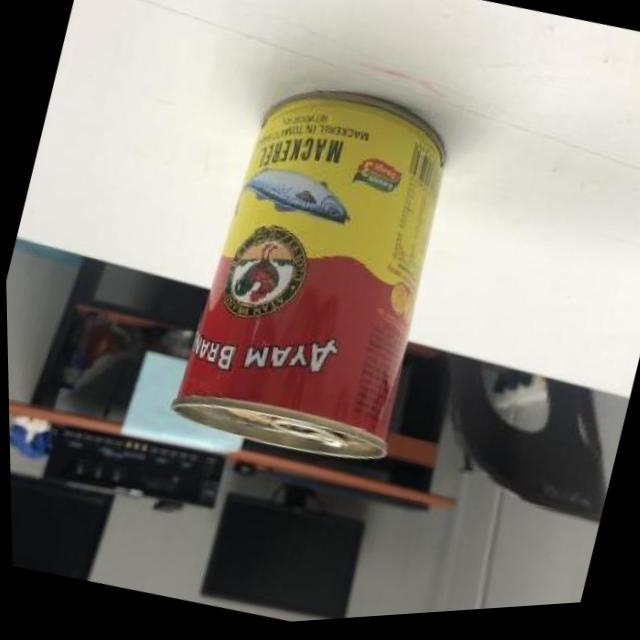metal: (159, 55, 473, 482)
